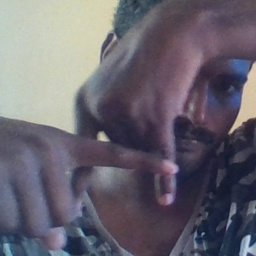H: (46, 93, 186, 218)
